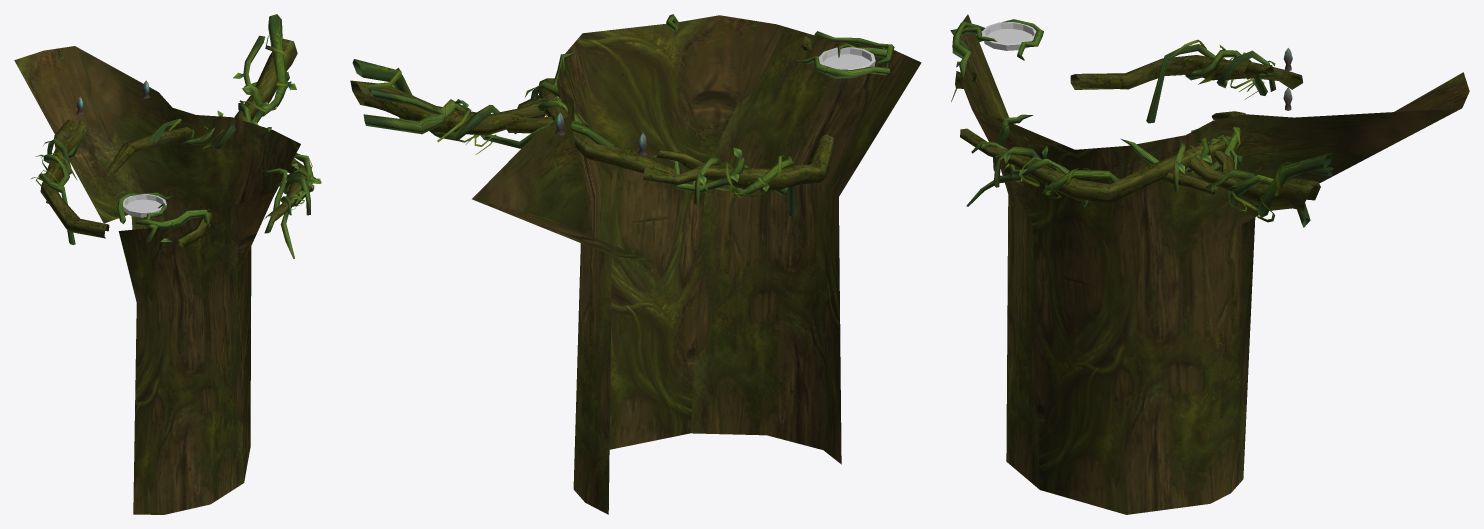
File: terrain_section04_guanka02_dimian01.FBX
The picture shows the model from 3 angles, left to right: view 1: azimuth 30°, elevation 25°; view 2: azimuth 150°, elevation 25°; view 3: azimuth 270°, elevation 25°; orthographic projection. The views are drawn at different scales.
Visible parts, largest first — view 1: terrain_section04_guanka02_dimian01; view 2: terrain_section04_guanka02_dimian01; view 3: terrain_section04_guanka02_dimian01.
Boxes of the visible parts, bbox=[...] form: terrain_section04_guanka02_dimian01: bbox=[14, 14, 321, 514]; terrain_section04_guanka02_dimian01: bbox=[350, 14, 921, 514]; terrain_section04_guanka02_dimian01: bbox=[950, 14, 1469, 514].
Bounding box in the file's own units: 67.88 × 78.53 × 71.22.
